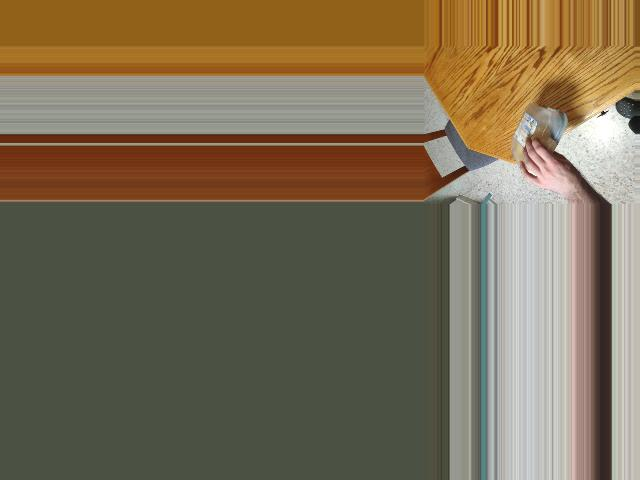cheese: (519, 107, 561, 166)
